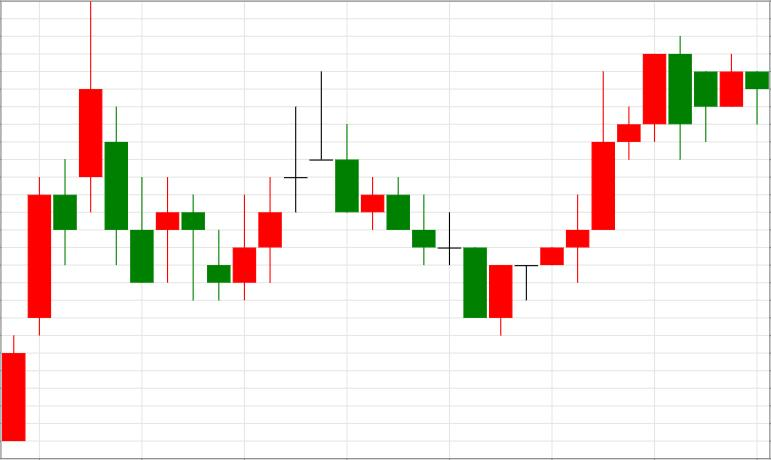bearish_engulfing_fall: (489, 37, 691, 337)
